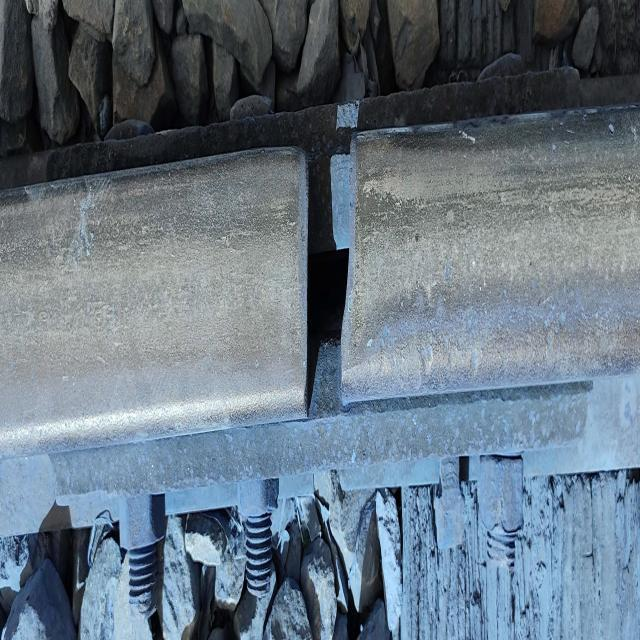railway_join_bar_defects_medium: (292, 142, 362, 428)
